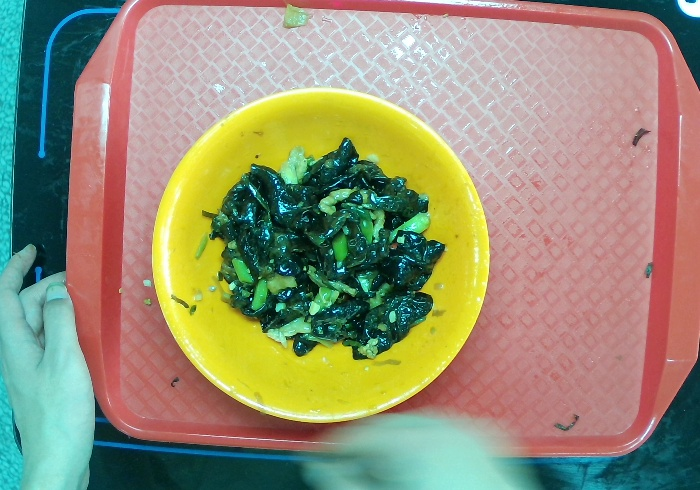YKMZ-Ju_Se_Tang_Wan: (141, 79, 497, 428)
